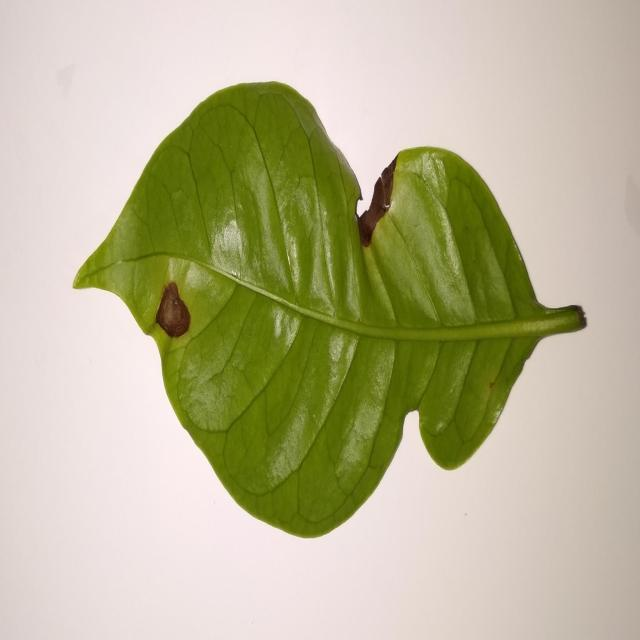phoma: (355, 156, 397, 247), (155, 281, 191, 338)
